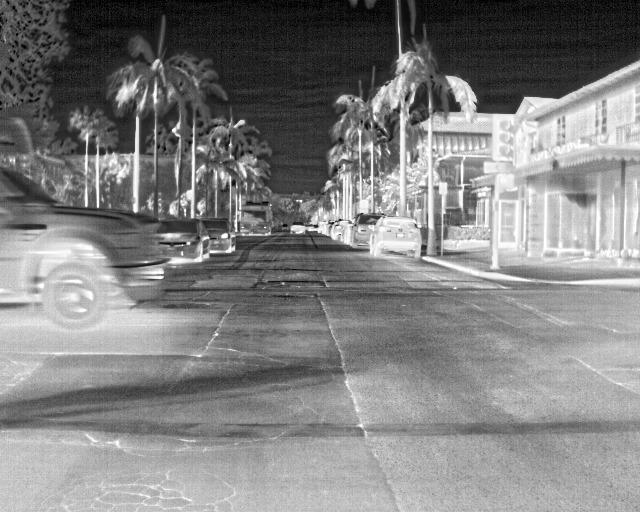car: (1, 108, 170, 331), (154, 218, 210, 262), (368, 215, 422, 260), (196, 216, 236, 253), (239, 200, 274, 234), (348, 213, 379, 249), (330, 220, 351, 240), (340, 223, 352, 245), (256, 222, 272, 235), (290, 222, 305, 234), (324, 220, 335, 236), (318, 221, 327, 234), (307, 224, 314, 231), (282, 224, 288, 230), (314, 225, 318, 231)
light: (498, 119, 512, 156), (499, 174, 514, 188)
sign: (484, 162, 515, 173), (438, 182, 448, 195), (360, 200, 367, 208), (360, 208, 367, 213)
